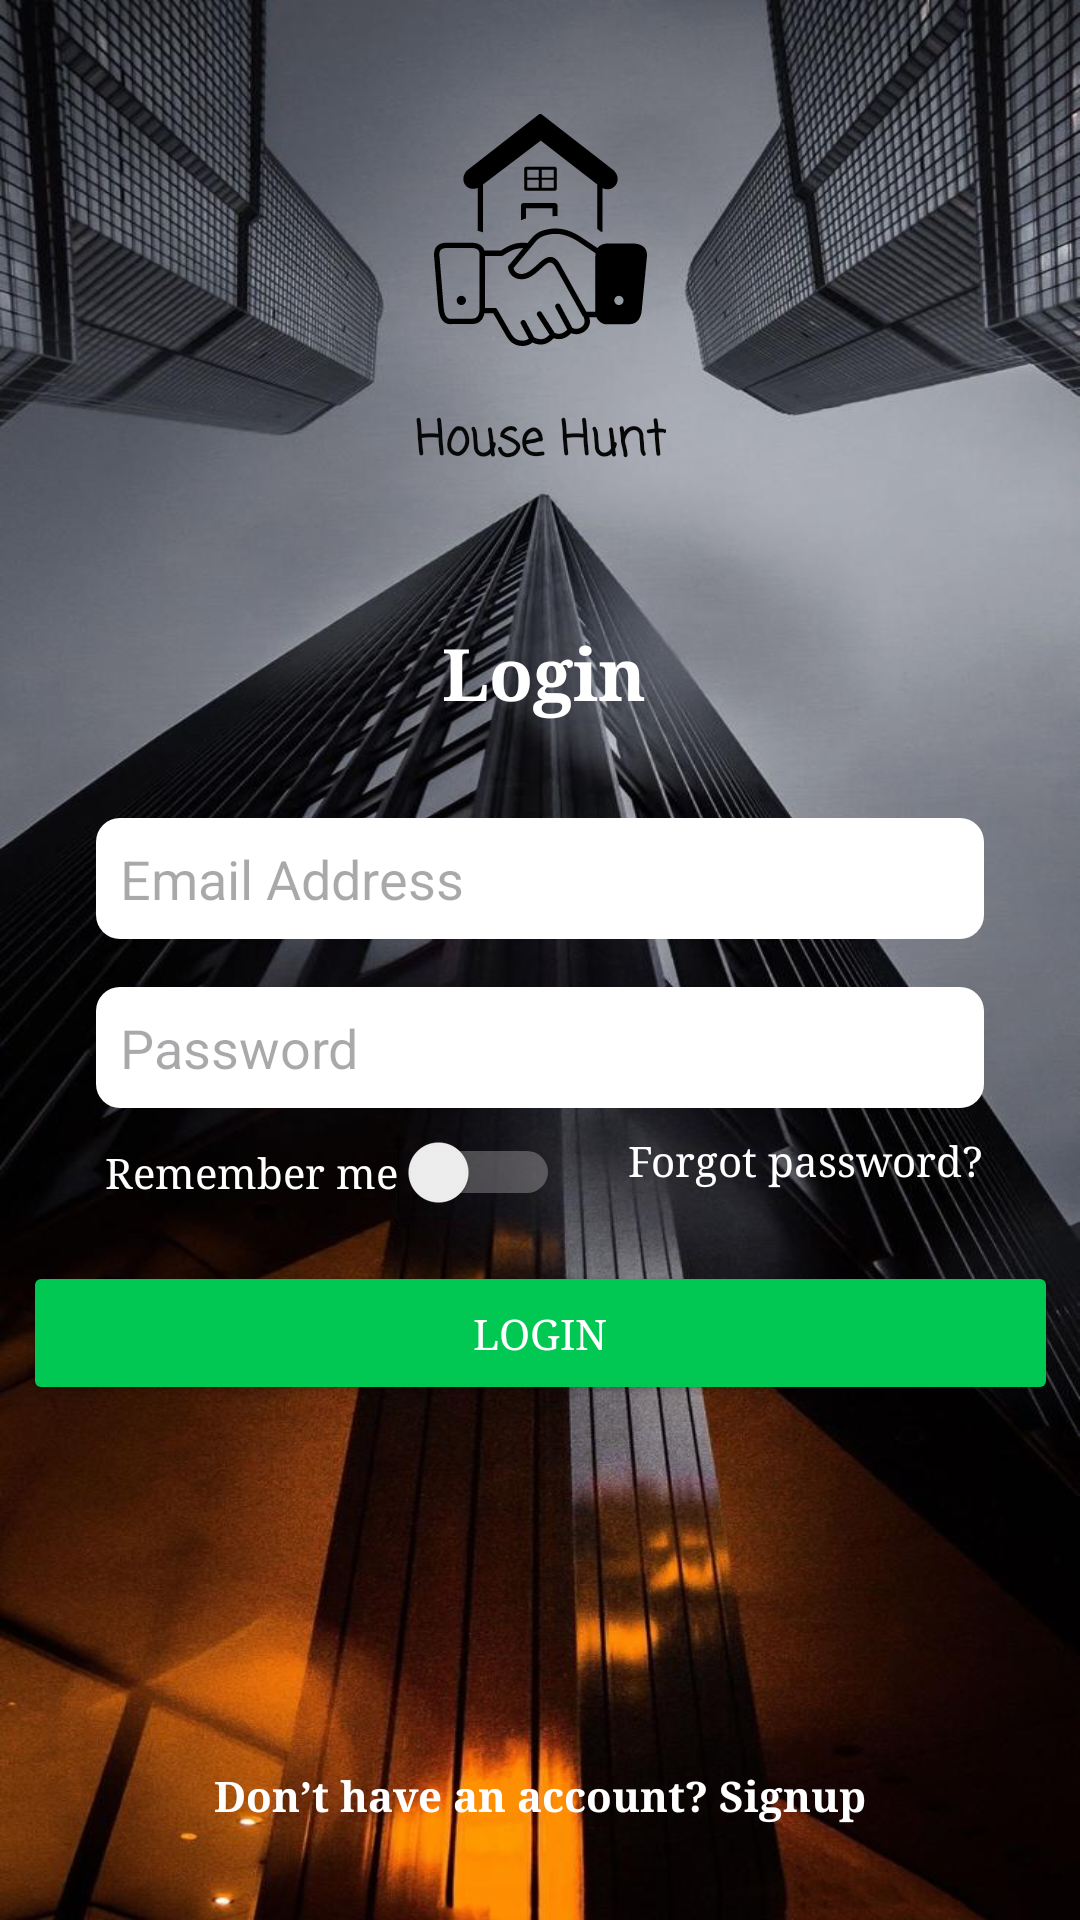

Named icons in this screenshot (1080×1920) and their centers, (x=x, y=y):
dealericon: (x=540, y=230)
